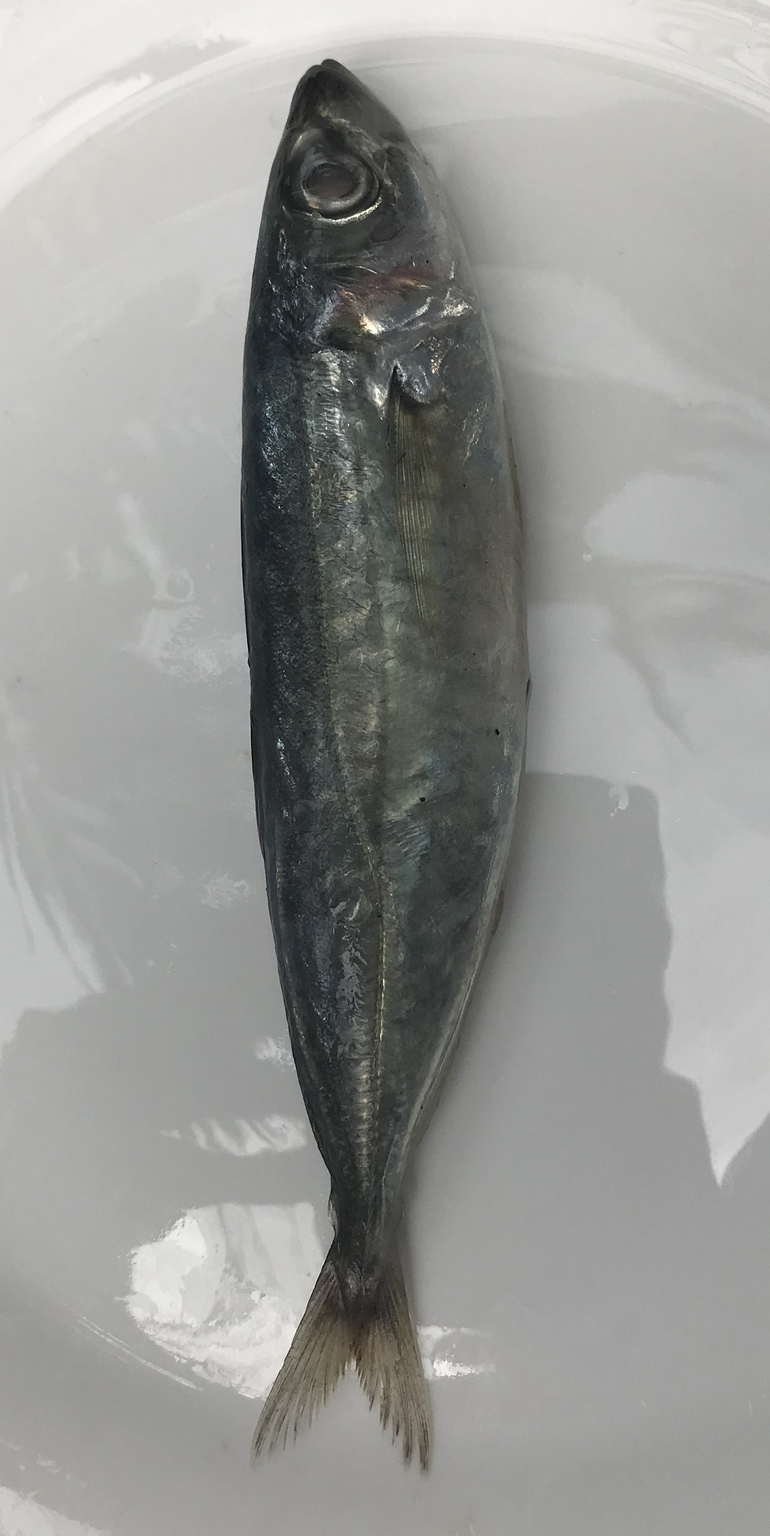galunggong_not_dried: (240, 59, 549, 1474)
